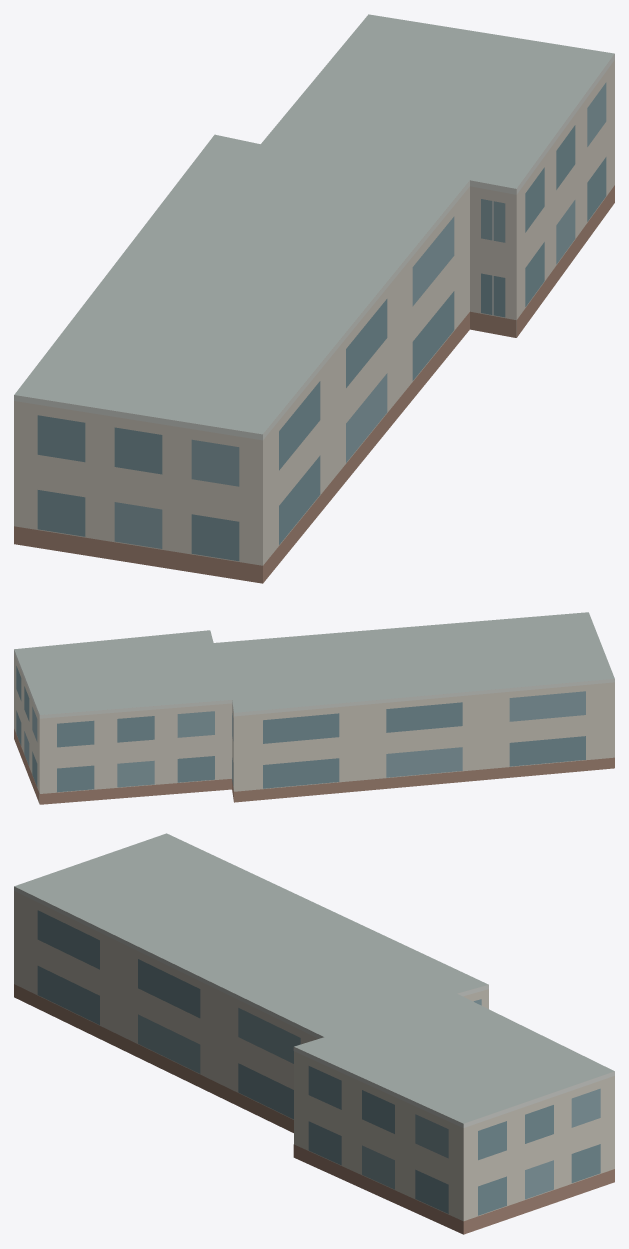
File: survey-upis-32589090.glb
3 views of the same model, one above another, from view 1: azimuth 30°, elevation 25°; view 2: azimuth 150°, elevation 25°; view 3: azimuth 270°, elevation 25° (orthographic). The views are drawn at different scales.
Parts seen in each view (by area): view 1: survey-upis-32589090.tmp; view 2: survey-upis-32589090.tmp; view 3: survey-upis-32589090.tmp.
Part boxes in pixels (<box>): survey-upis-32589090.tmp: <box>14,14,614,583</box>; survey-upis-32589090.tmp: <box>14,612,614,804</box>; survey-upis-32589090.tmp: <box>14,833,614,1234</box>.
Size of the model in its own units: 34.26 by 6.1 by 29.96.
